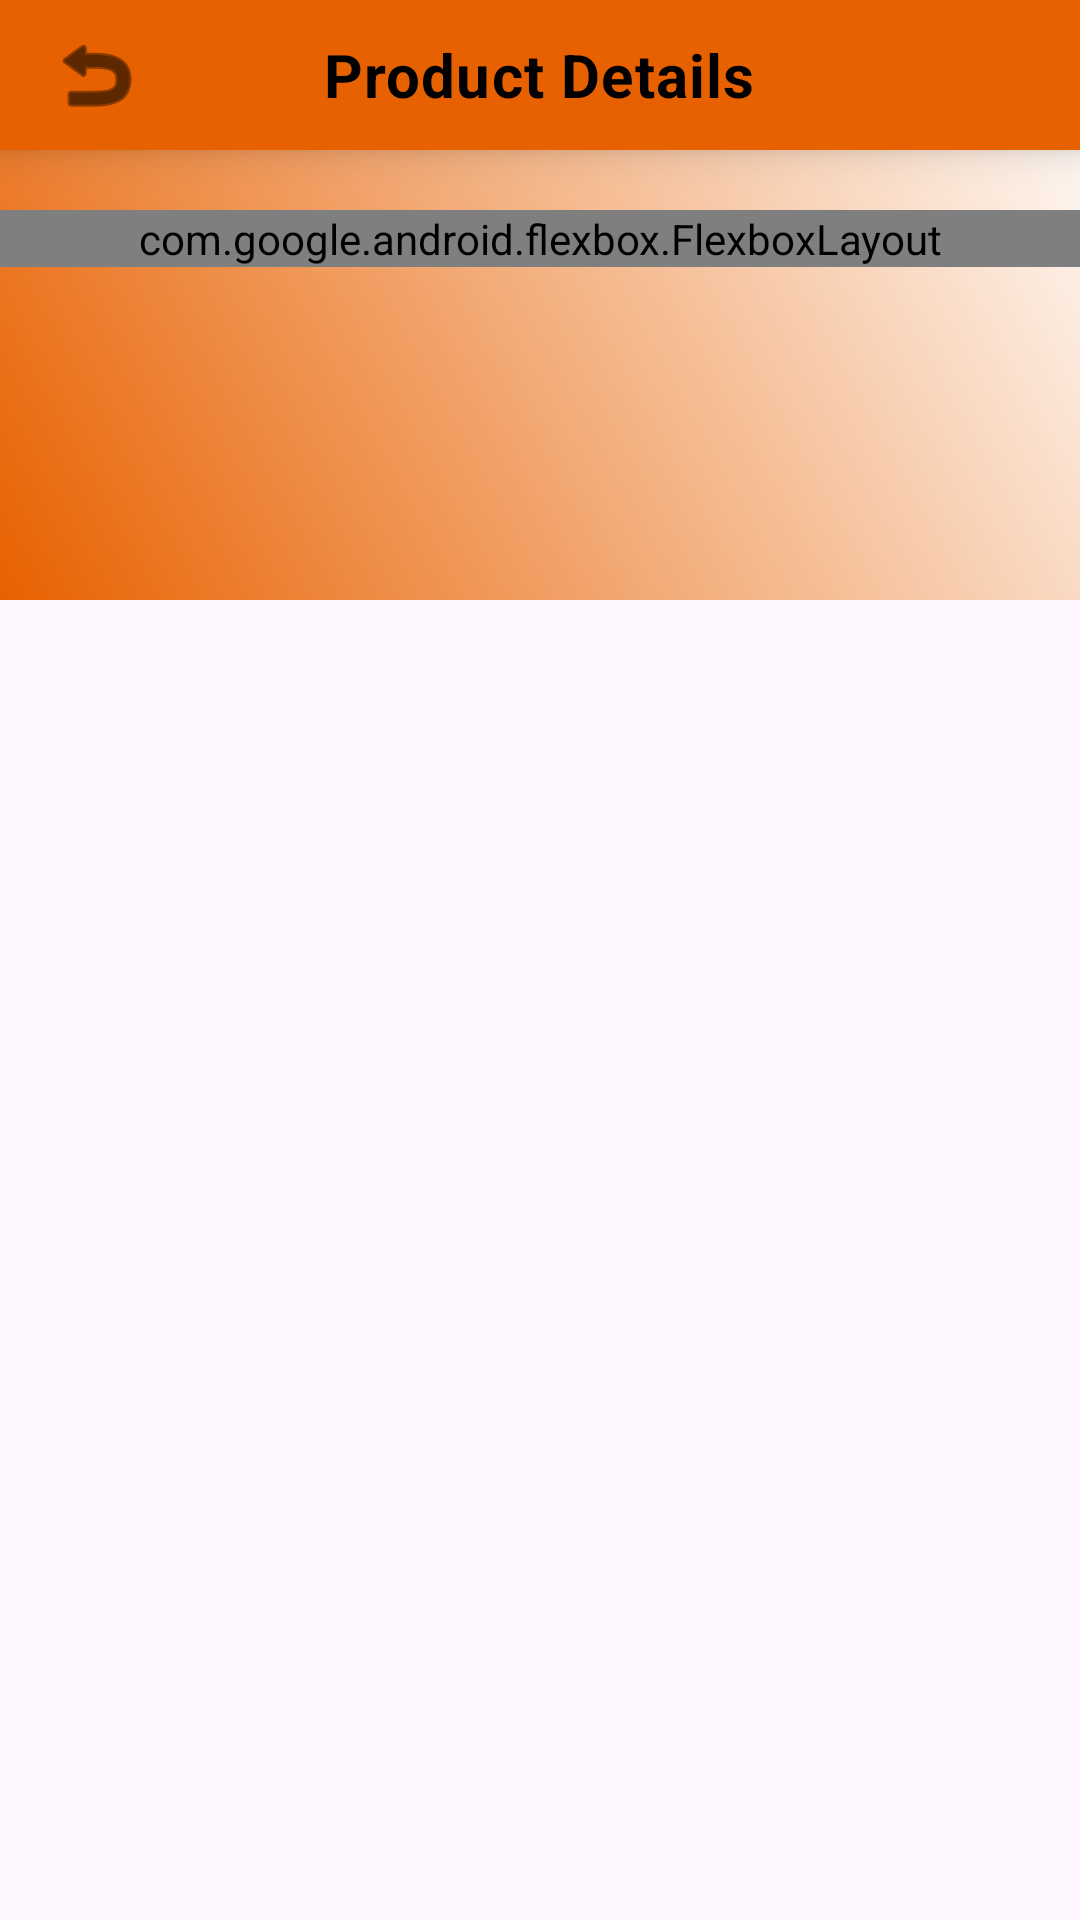

Where icons sit on this 1080*1920 app screen, as BBox(x1, y1, x2, y2):
Back: BBox(63, 44, 132, 107)
